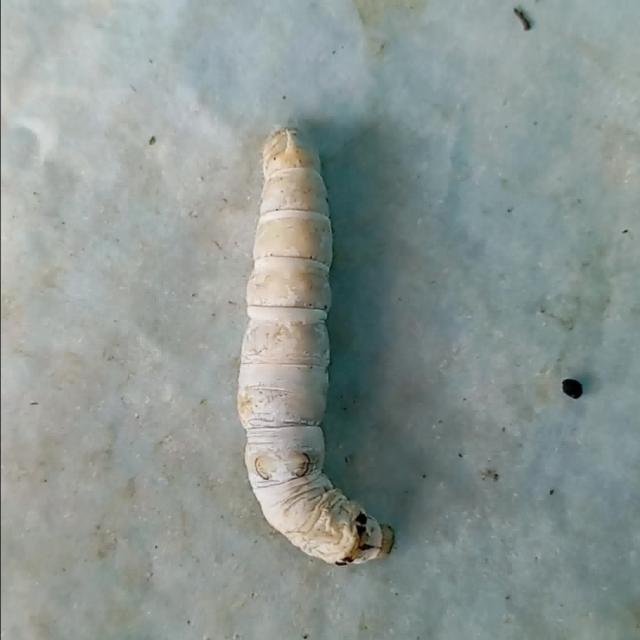Grasserie: (210, 110, 406, 590)
